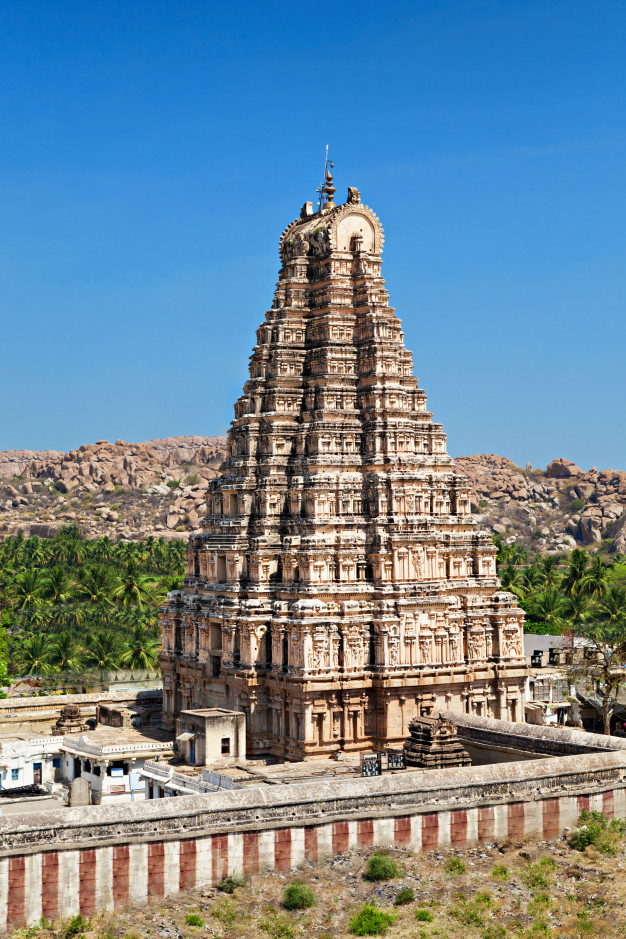Temple: (141, 155, 536, 769)
